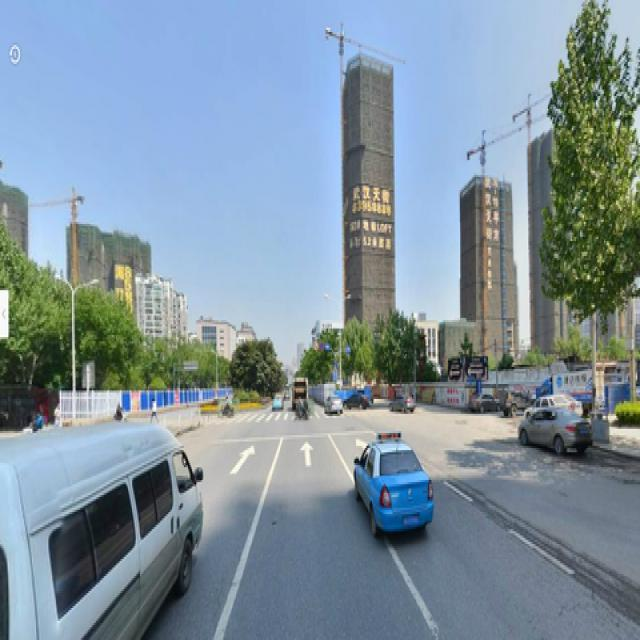meta: (542, 11, 630, 410)
